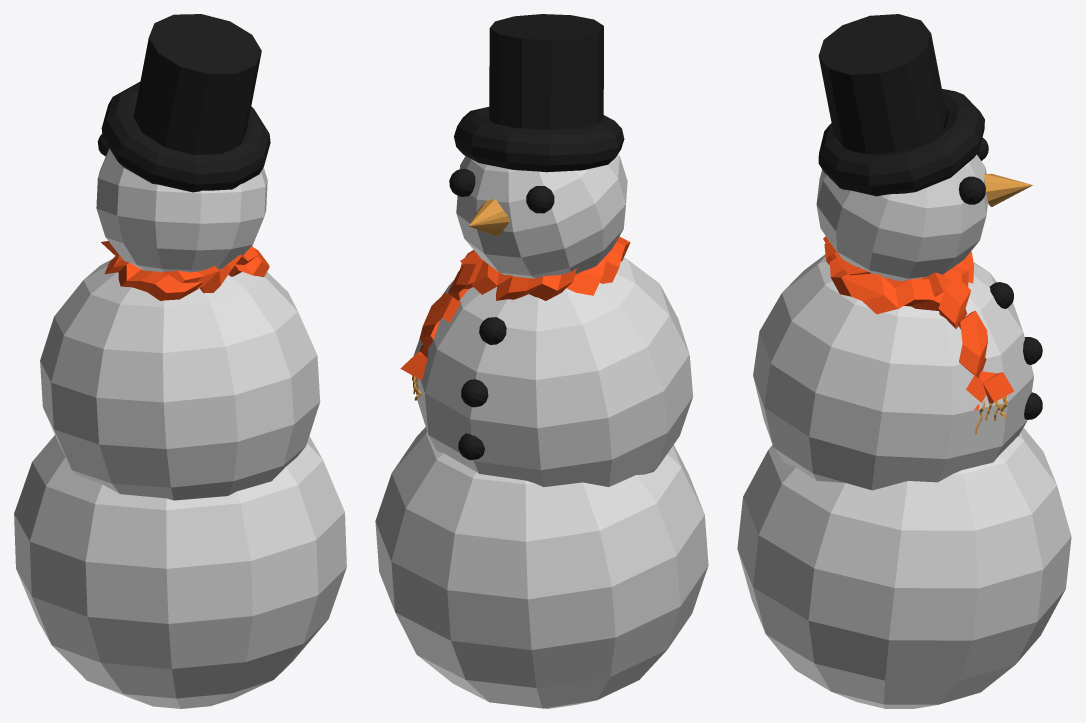
File: scene_C0GpdvX8zh.glb
3 views of the same model, side by side, from view 1: azimuth 30°, elevation 25°; view 2: azimuth 150°, elevation 25°; view 3: azimuth 270°, elevation 25° (orthographic).
Visible parts, largest first — view 1: group1707035305, group1155739177, group1135605350, group1329402302, group640200976, group1750952730, group952261351; view 2: group1707035305, group1155739177, group1329402302, group1135605350, group640200976, group169186752, group1913116961, group1750952730, group639472583, group1920734400, group1960060446, group1315391790 (+3 smaller); view 3: group1707035305, group1155739177, group1135605350, group1329402302, group640200976, group1074746012, group1913116961, group1224913372, group639472583, group1666499349, group169186752.
Part boxes in pixels (box(x1,y1,x2,y2)): group1707035305: box(14, 435, 346, 708); group1155739177: box(40, 259, 320, 500); group1135605350: box(133, 14, 261, 155); group1329402302: box(96, 148, 267, 272); group640200976: box(101, 82, 270, 192); group1750952730: box(104, 253, 202, 300); group952261351: box(161, 246, 257, 293); group1707035305: box(375, 427, 708, 708); group1155739177: box(413, 257, 693, 486); group1329402302: box(456, 154, 627, 278); group1135605350: box(489, 14, 603, 129); group640200976: box(454, 107, 624, 172); group169186752: box(471, 260, 576, 300); group1913116961: box(419, 263, 475, 348); group1750952730: box(566, 236, 630, 295); group639472583: box(469, 199, 509, 236); group1920734400: box(526, 186, 554, 213); group1960060446: box(479, 317, 506, 344); group1315391790: box(461, 379, 488, 407); group1707035305: box(737, 427, 1071, 708); group1155739177: box(753, 254, 1033, 490); group1135605350: box(818, 14, 946, 154); group1329402302: box(816, 154, 987, 281); group640200976: box(818, 89, 984, 196); group1074746012: box(830, 258, 950, 314); group1913116961: box(938, 275, 987, 409); group1224913372: box(966, 371, 1014, 403); group639472583: box(984, 173, 1032, 206); group1666499349: box(959, 176, 985, 204); group169186752: box(944, 251, 974, 286).
Size of the model in its own units: 0.8077 by 1.79 by 0.8152.
